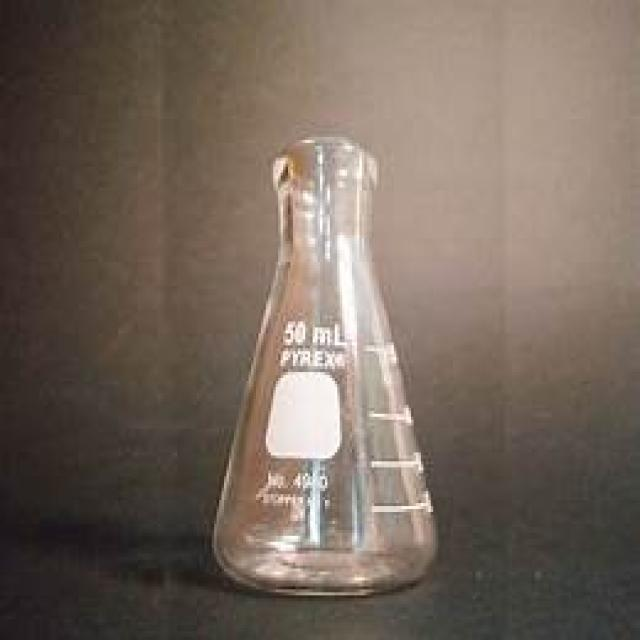Titrarion: (211, 129, 442, 590)
